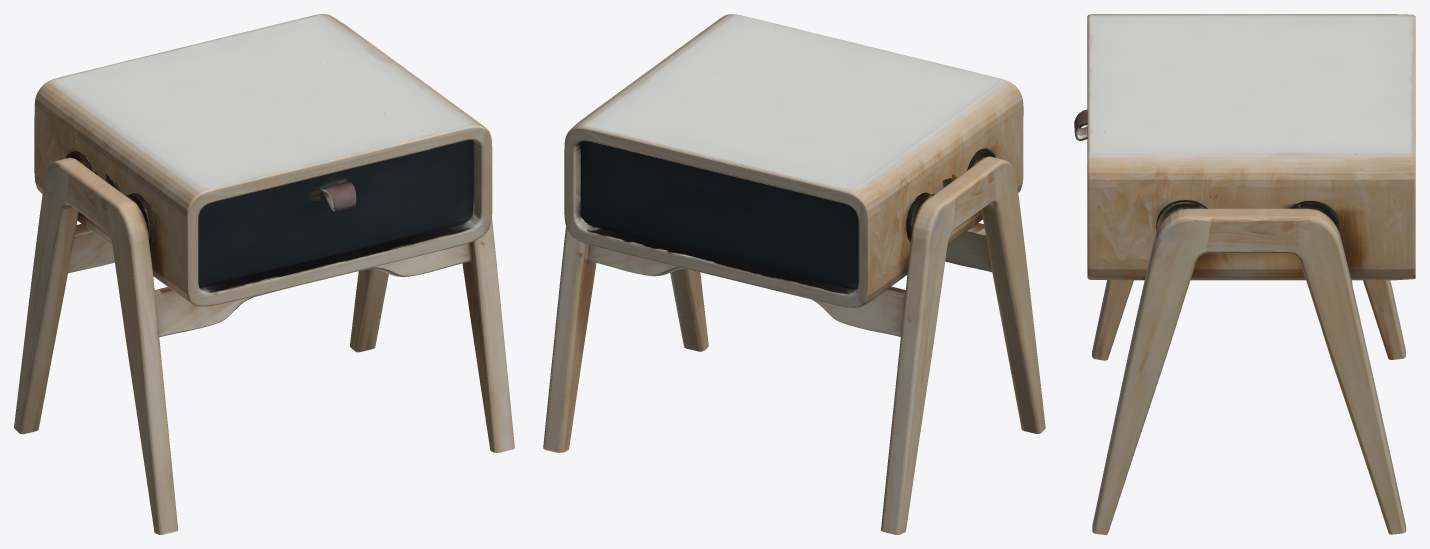
Rendered from custom.glb.
The picture shows the model from 3 angles, left to right: view 1: azimuth 30°, elevation 25°; view 2: azimuth 150°, elevation 25°; view 3: azimuth 270°, elevation 25°; orthographic projection. The views are drawn at different scales.
Parts seen in each view (by area): view 1: tmpktbz07wv.obj; view 2: tmpktbz07wv.obj; view 3: tmpktbz07wv.obj.
Boxes of the visible parts, x1=… form: tmpktbz07wv.obj: x1=14, y1=14, x2=514, y2=534; tmpktbz07wv.obj: x1=543, y1=14, x2=1045, y2=534; tmpktbz07wv.obj: x1=1074, y1=14, x2=1415, y2=534.
Bounding box in the file's own units: 1.1 × 0.9974 × 0.8618.
Materials: 1 (1 with a texture image).
